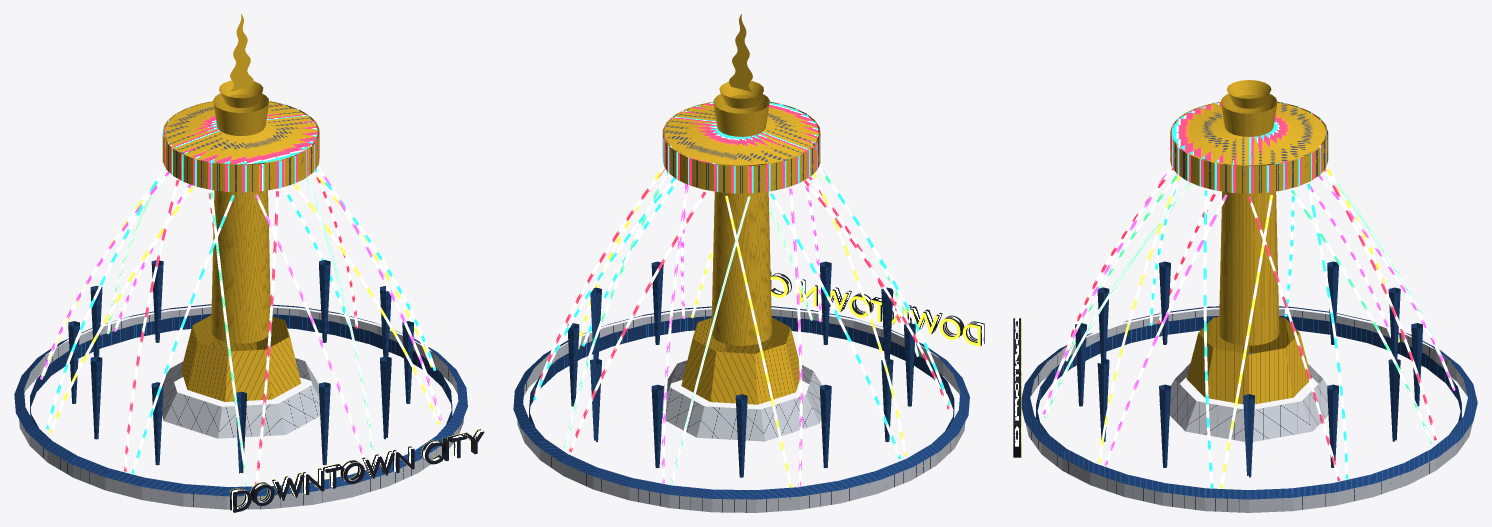
The model's file is Downtown_City_Tugu_Keris.fbx.
3 renders of one model, left to right at view 1: azimuth 30°, elevation 25°; view 2: azimuth 150°, elevation 25°; view 3: azimuth 270°, elevation 25°, orthographic.
Parts seen in each view (by area): view 1: Downtown_City_Tugu_Keris; view 2: Downtown_City_Tugu_Keris; view 3: Downtown_City_Tugu_Keris.
Part boxes in pixels (<box>): Downtown_City_Tugu_Keris: <box>14,14,484,512</box>; Downtown_City_Tugu_Keris: <box>513,14,984,512</box>; Downtown_City_Tugu_Keris: <box>1013,80,1477,512</box>.
Size of the model in its own units: 23.4 by 22.8 by 23.77.
1 material, 1 textured.
